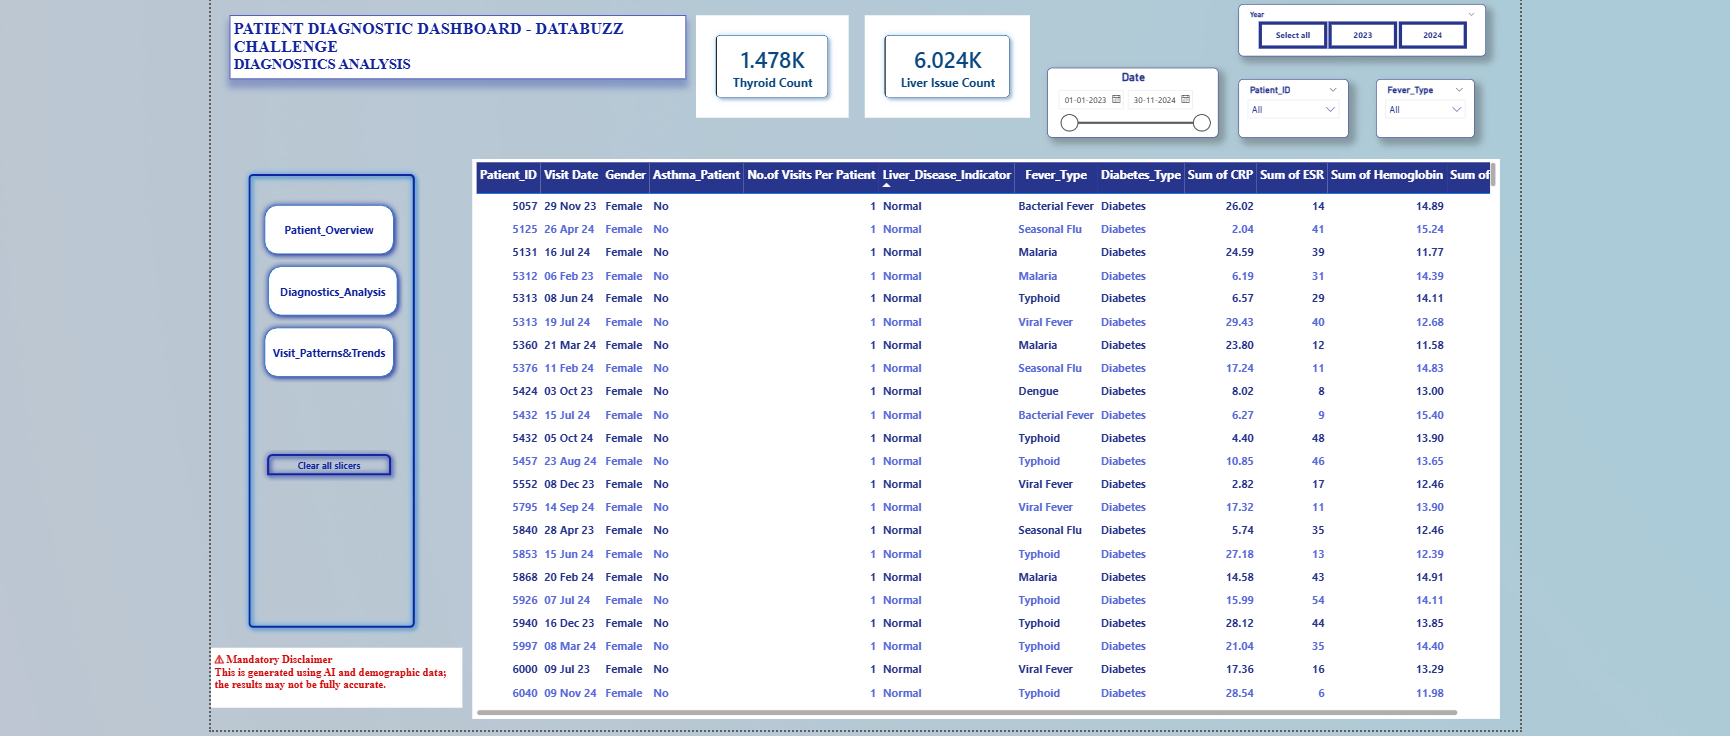

Layout of this report page (visuals, bound fields, positions):
{"tool":"powerbi","page":{"name":"Diagnostics_Analysis","canvas":[1920,1080],"ordinal":1},"visuals":[{"type":"tableEx","fields":{"Values":["Patient_Table.Patient_ID","Patient_Symptoms.Visit Date","Patient_Table.Gender","Patient_Table.Asthma_Patient","Patient_Symptoms.No.of Visits Per Patient","Patient_Symptoms.Liver_Disease_Indicator","Fever_Type_Profile.Fever_Type","Patient_Symptoms.Diabetes_Type","Sum(Blood_Test_Results.CRP)","Sum(Blood_Test_Results.ESR)","Sum(Blood_Test_Results.Hemoglobin)","Sum(Blood_Test_Results.WBC)"]},"box":[383.4,242.1,1507.8,821.7],"z":0},{"type":"cardVisual","fields":{"Data":["Patient_Symptoms.Thyroid Count"]},"box":[711.7,31.2,223.8,150.4],"z":1000},{"type":"cardVisual","fields":{"Data":["Patient_Symptoms.Liver Issue Count"]},"box":[959.3,31.2,242.1,150.4],"z":2000},{"type":"slicer","title":"Date","fields":{"Values":["Patient_Symptoms.Visit_Date"]},"box":[1227.1,108.2,251.3,102.7],"z":3000},{"type":"slicer","fields":{"Values":["Patient_Symptoms.Fever_Type"]},"box":[1709.5,124.7,144.9,86.2],"z":4000},{"type":"slicer","fields":{"Values":["Patient_Table.Patient_ID"]},"box":[1507.8,124.7,161.4,86.2],"z":5000},{"type":"slicer","fields":{"Values":["Patient_Symptoms.Visit_Date.Variation.Date Hierarchy.Year"]},"box":[1507.8,14.7,363.2,77],"z":6000},{"type":"actionButton","box":[45.9,255,262.3,684.2],"z":7000},{"type":"shape","box":[69.7,300.8,207.3,89.9],"z":8000},{"type":"shape","box":[75.2,390.7,207.3,89.9],"z":9000},{"type":"shape","box":[69.7,480.6,207.3,89.9],"z":10000},{"type":"actionButton","box":[73.4,665.8,199.9,49.5],"z":11000},{"type":"textbox","box":[27.5,31.2,642,110.1],"z":12000},{"type":"textbox","box":[0,959.3,368.7,88],"z":13000}]}

Visuals, with their boxes on the page's 1920x1080 design canvas (x1, y1, x2, y2). These are canvas units, not pixel positions in the 1730x736 screenshot, which may show the page scaled, cropped or inside an application window:
tableEx - Patient_Table.Patient_ID x Patient_Symptoms.Visit Date: crop(383, 242, 1891, 1064)
cardVisual - Patient_Symptoms.Thyroid Count: crop(712, 31, 936, 182)
cardVisual - Patient_Symptoms.Liver Issue Count: crop(959, 31, 1201, 182)
"Date" slicer: crop(1227, 108, 1478, 211)
slicer - Patient_Symptoms.Fever_Type: crop(1710, 125, 1854, 211)
slicer - Patient_Table.Patient_ID: crop(1508, 125, 1669, 211)
slicer - Patient_Symptoms.Visit_Date.Variation.Date Hierarchy.Year: crop(1508, 15, 1871, 92)
actionButton: crop(46, 255, 308, 939)
shape: crop(70, 301, 277, 391)
shape: crop(75, 391, 282, 481)
shape: crop(70, 481, 277, 570)
actionButton: crop(73, 666, 273, 715)
textbox: crop(28, 31, 670, 141)
textbox: crop(0, 959, 369, 1047)
